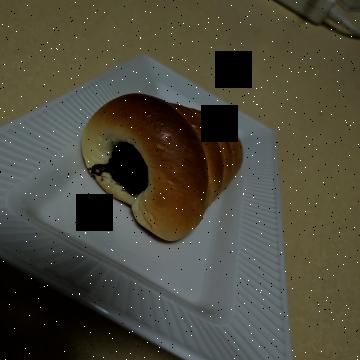cream horn: (68, 111, 250, 292)
